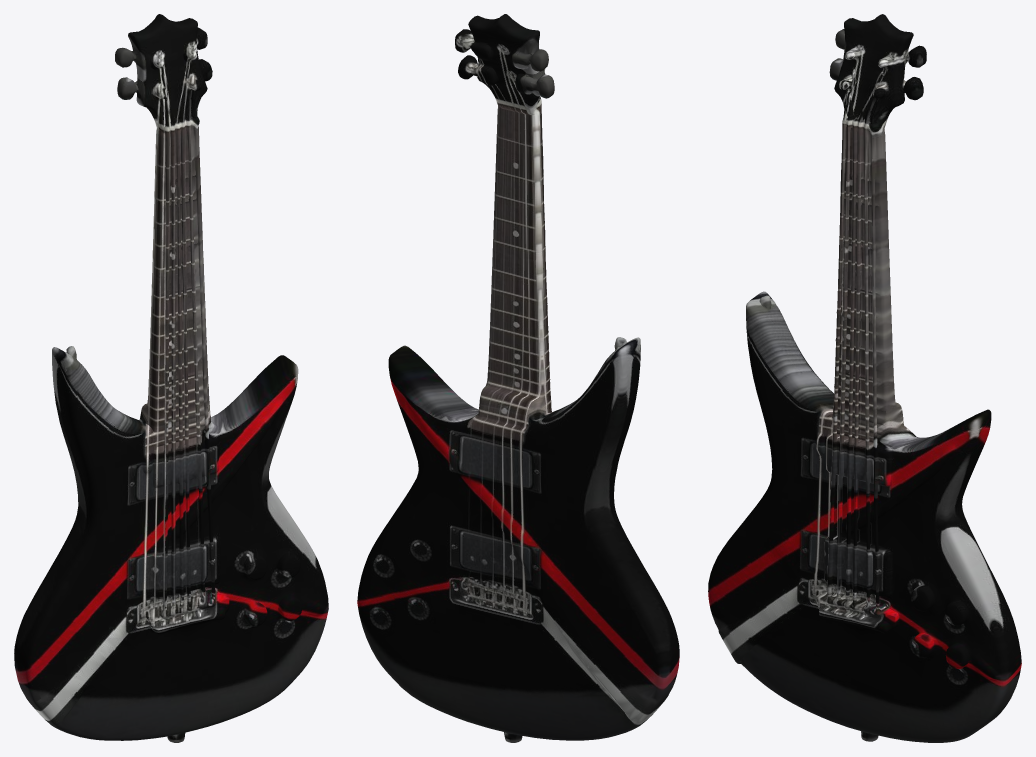
File: guitarra.glb
3 views of the same model, side by side, from view 1: azimuth 30°, elevation 25°; view 2: azimuth 150°, elevation 25°; view 3: azimuth 330°, elevation 25° (orthographic). The views are drawn at different scales.
Parts seen in each view (by area): view 1: guitarra-eletrica; view 2: guitarra-eletrica; view 3: guitarra-eletrica.
Part boxes in pixels (x1=…): guitarra-eletrica: x1=14, y1=14, x2=328, y2=742; guitarra-eletrica: x1=357, y1=14, x2=679, y2=742; guitarra-eletrica: x1=708, y1=14, x2=1021, y2=742.
Bounding box in the file's own units: 0.4401 × 1 × 0.0863.
1 material, 1 textured.
